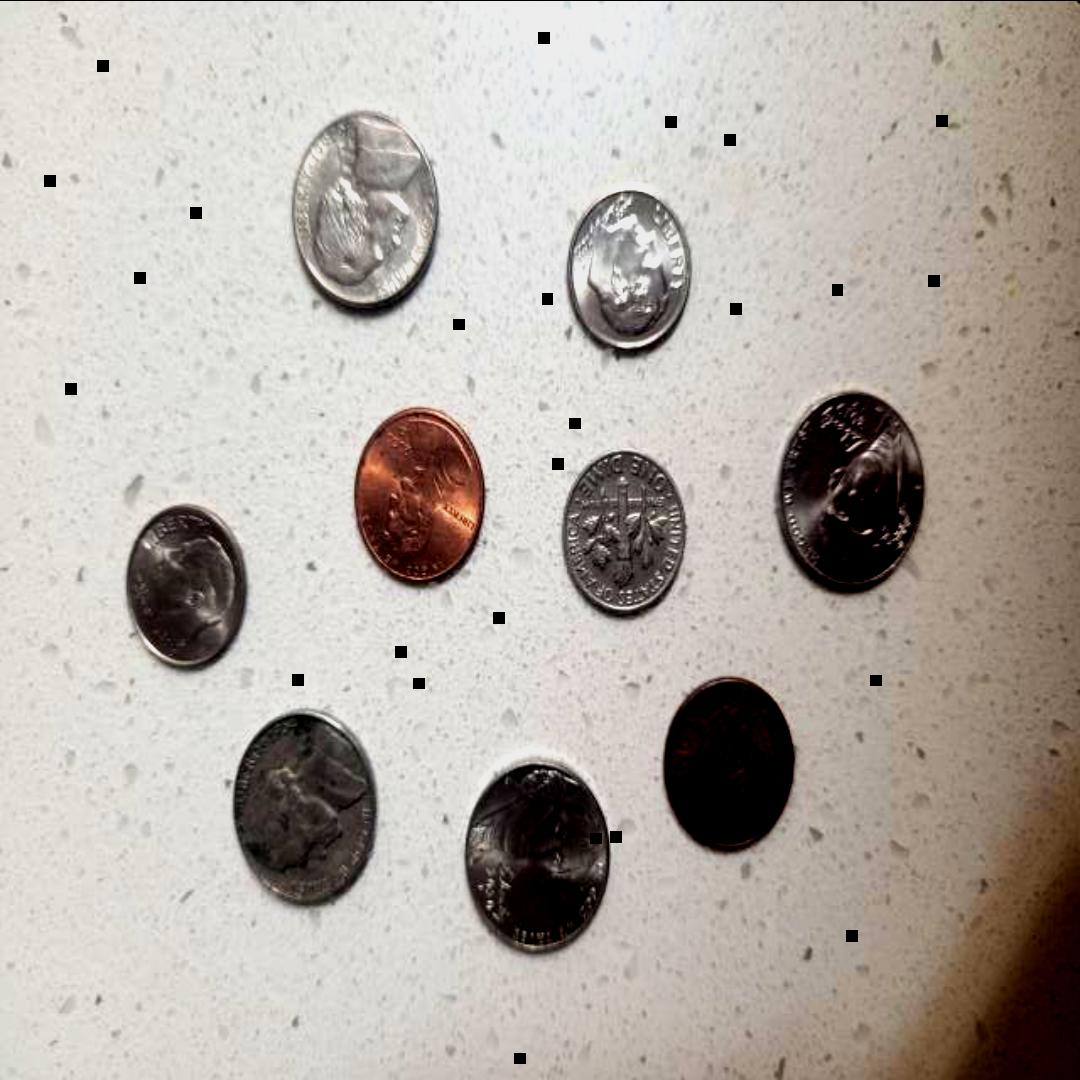Dime: (565, 168, 703, 356), (556, 434, 692, 618), (116, 496, 254, 674)
Nickel: (766, 378, 920, 610), (284, 116, 448, 330), (220, 699, 380, 913), (449, 754, 607, 959)
Penny: (350, 399, 493, 598), (658, 664, 802, 856)
